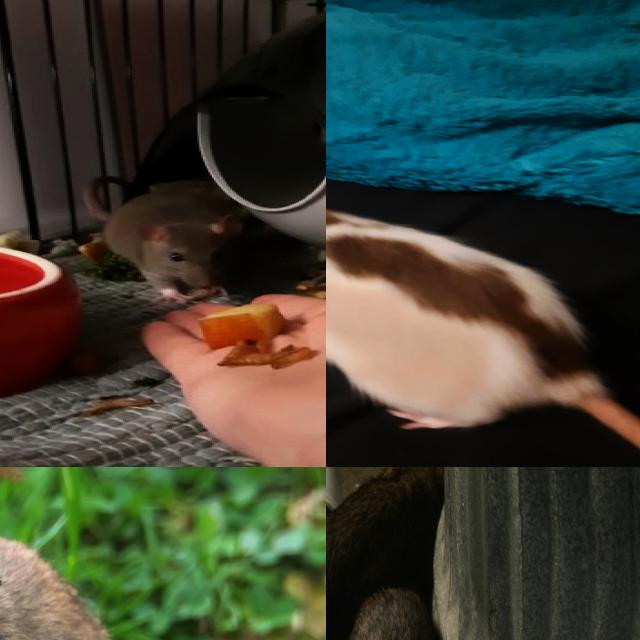rat: (326, 162, 597, 434), (0, 500, 133, 640), (96, 185, 246, 302), (326, 569, 436, 640)
